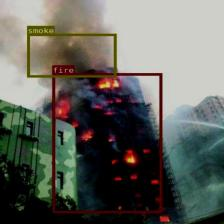fire: (52, 73, 162, 213)
smoke: (27, 33, 116, 77)
